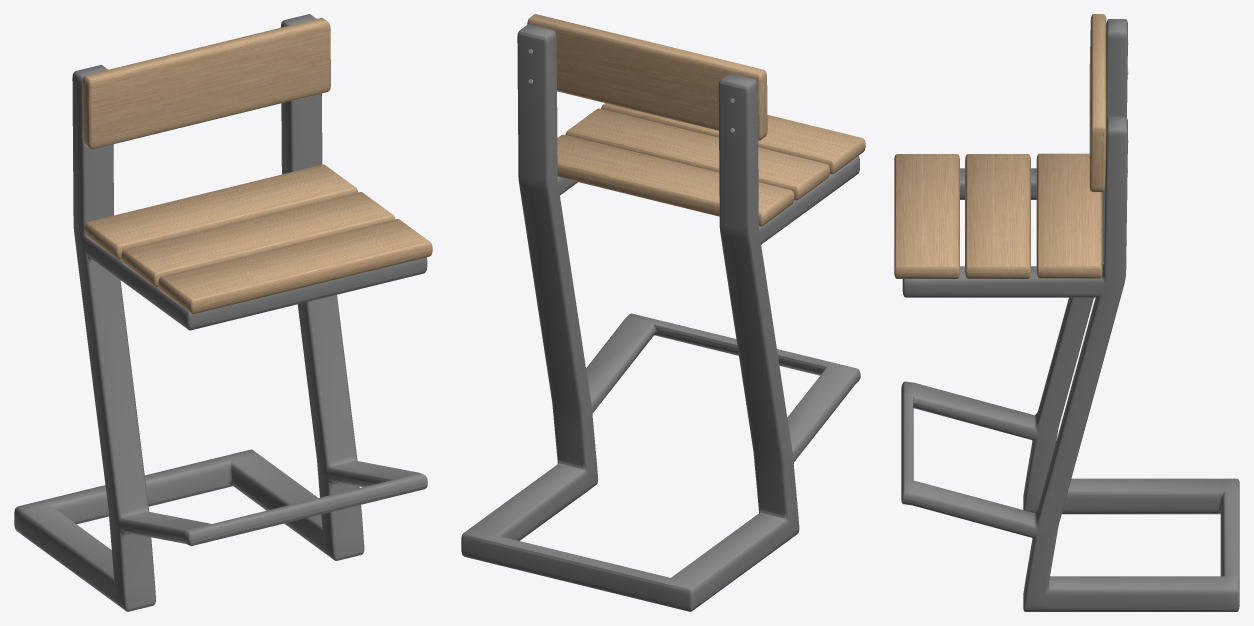
Rendered from greenloft01.glb.
3 renders of one model, left to right at view 1: azimuth 30°, elevation 25°; view 2: azimuth 150°, elevation 25°; view 3: azimuth 270°, elevation 25°, orthographic. The views are drawn at different scales.
Visible parts, largest first — view 1: Chair 2 Beweld_1; view 2: Chair 2 Beweld_1; view 3: Chair 2 Beweld_1.
Boxes of the visible parts, left/top/right/bottom form: Chair 2 Beweld_1: left=14, top=14, right=432, bottom=611; Chair 2 Beweld_1: left=461, top=14, right=865, bottom=611; Chair 2 Beweld_1: left=894, top=14, right=1239, bottom=611.
Size of the model in its own units: 0.5753 by 1.15 by 0.7384.
2 materials, 1 textured.
